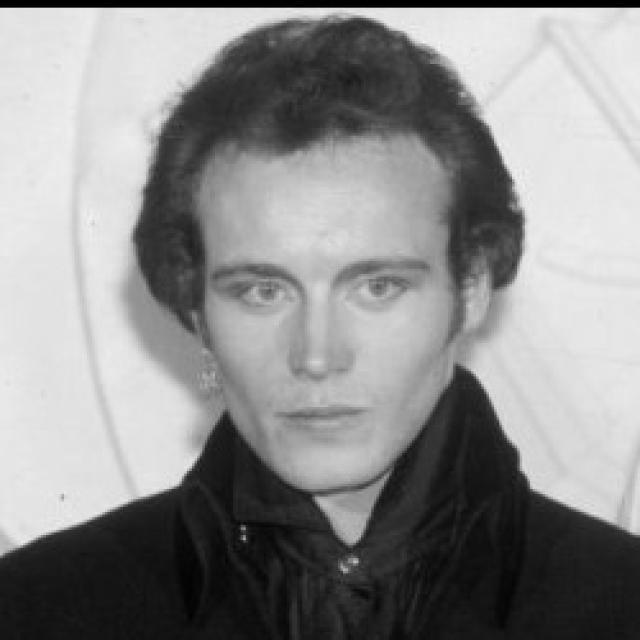real: (189, 121, 462, 503), (217, 259, 419, 327)
